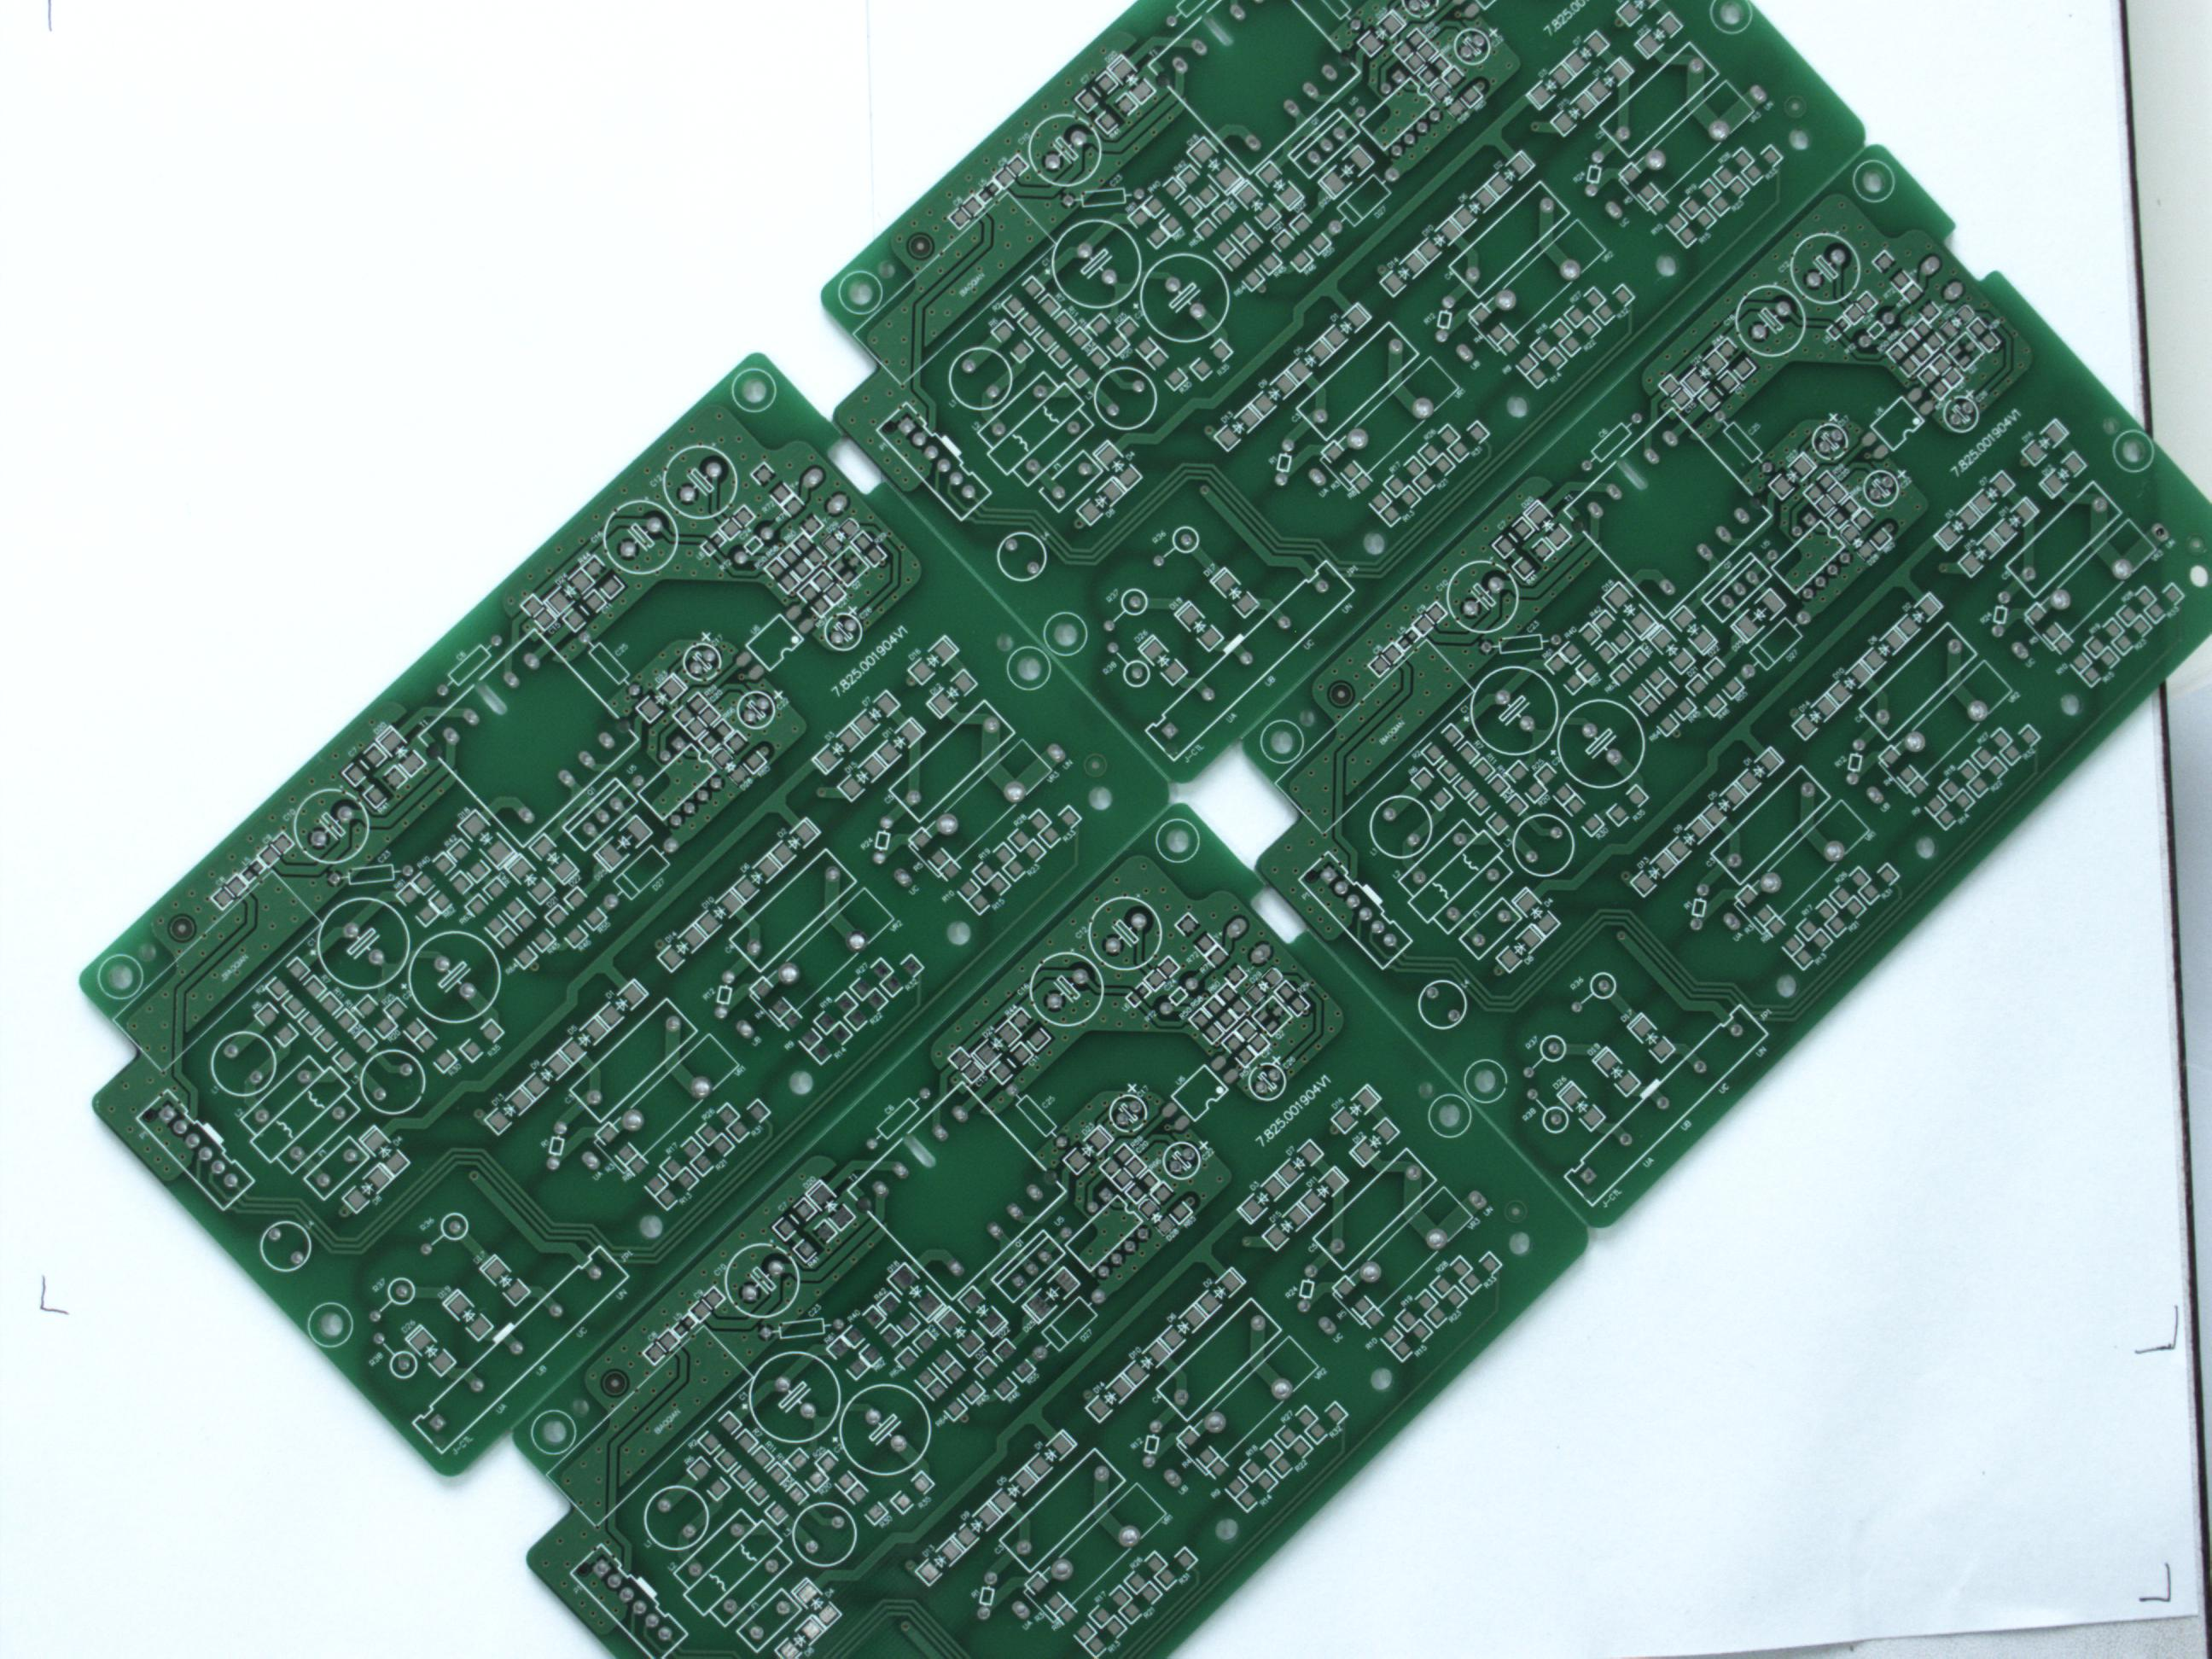ma: (1003, 643, 1055, 695), (1423, 1089, 1475, 1141), (1040, 606, 1090, 660), (94, 951, 146, 1002), (1258, 716, 1308, 769), (836, 268, 887, 319), (305, 1298, 354, 1351), (528, 1410, 580, 1459), (1461, 1054, 1508, 1108), (1153, 816, 1202, 866), (2109, 425, 2158, 476), (1848, 157, 1898, 206), (730, 368, 779, 415), (1705, 0, 1757, 37)
